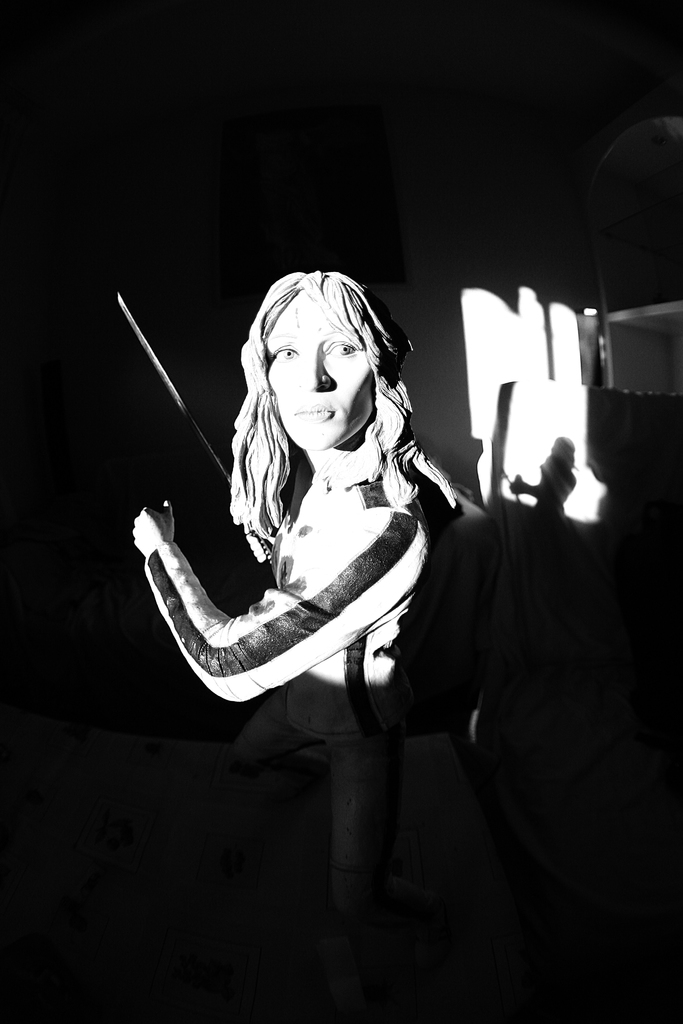Human_hand: (130, 499, 177, 559)
